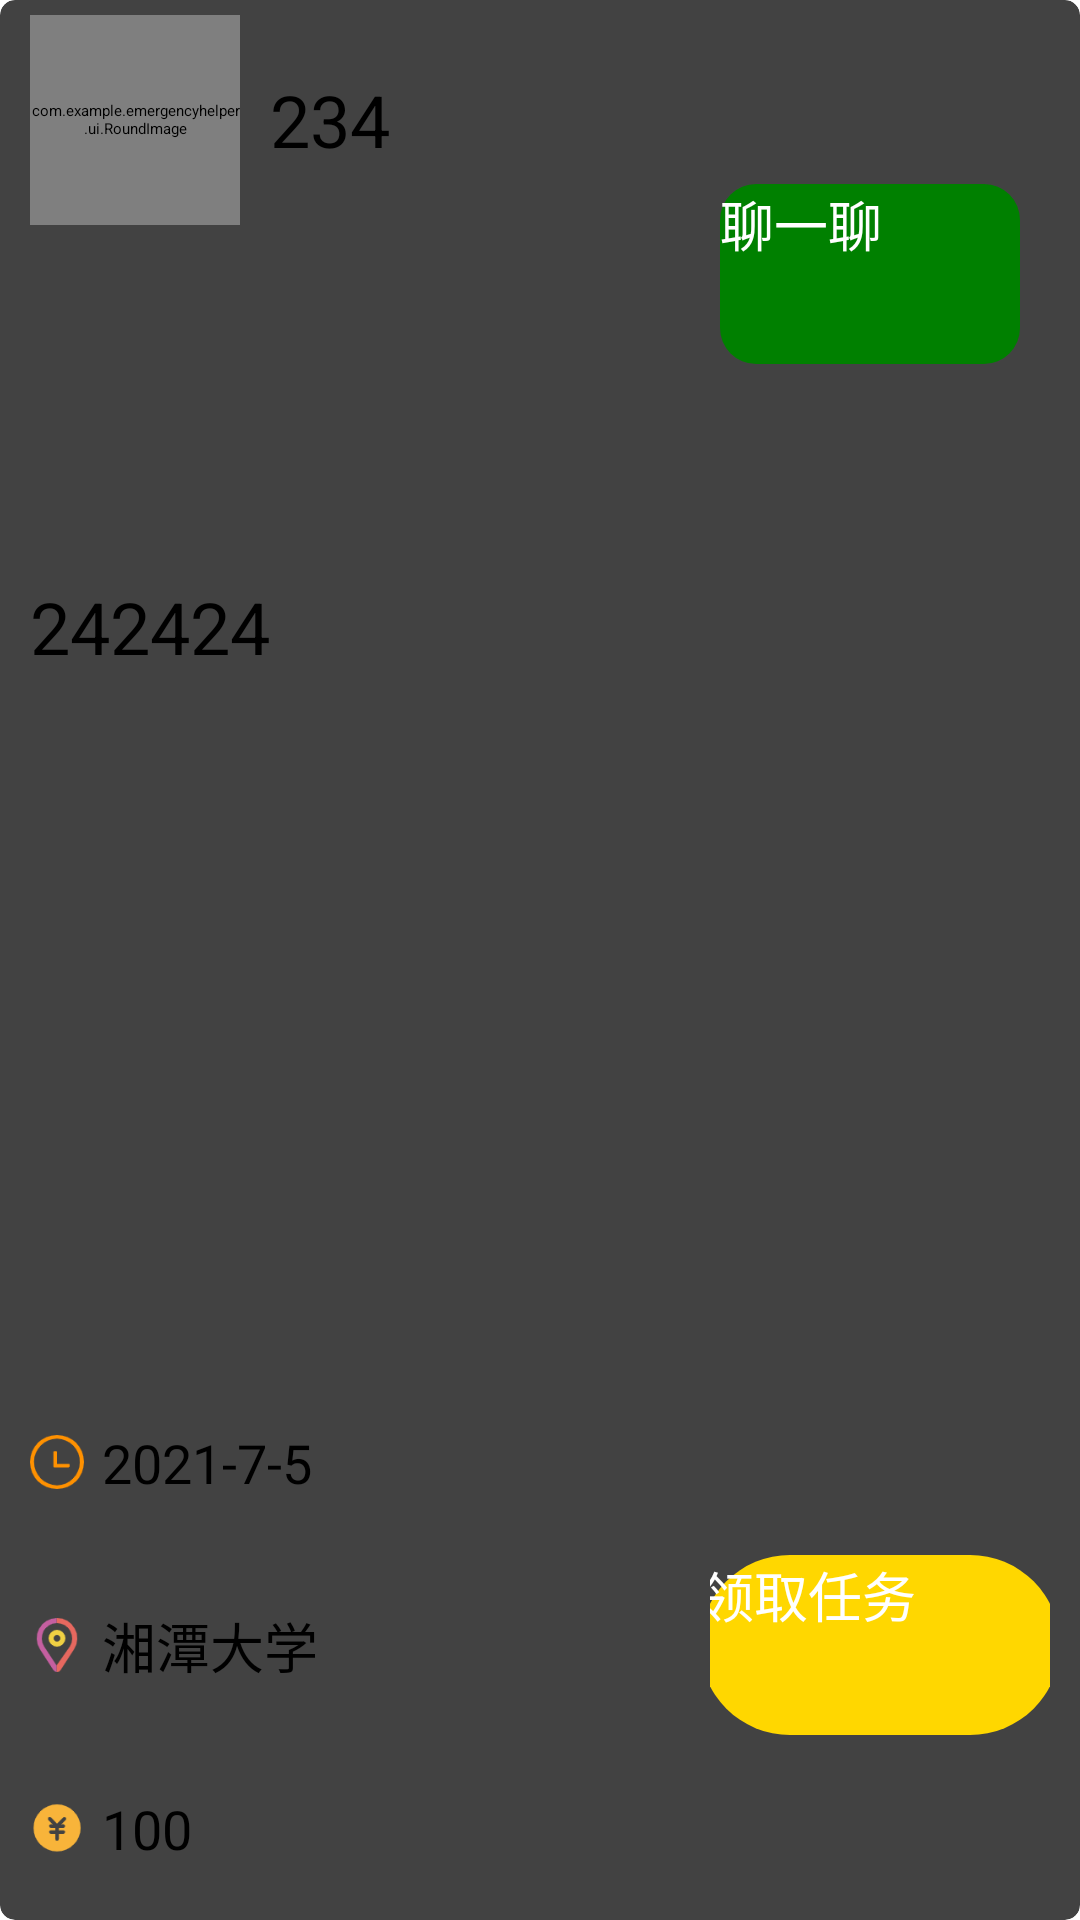

Where icons sit on this 1080px×1920px app screen, as (left=x1, top=y1, right=x2, bottom=y2):
task reward: (left=33, top=1804, right=81, bottom=1852)
task site: (left=36, top=1618, right=78, bottom=1672)
task time: (left=30, top=1435, right=84, bottom=1489)
